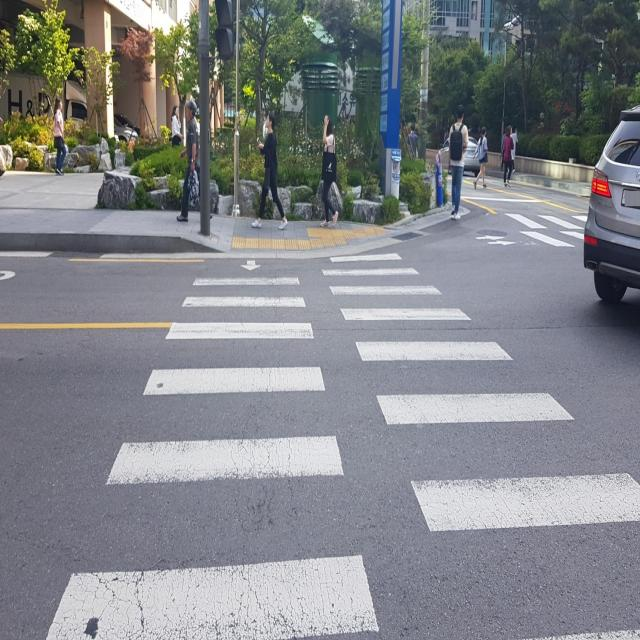횡단보도: (42, 250, 640, 640), (492, 208, 592, 250)
